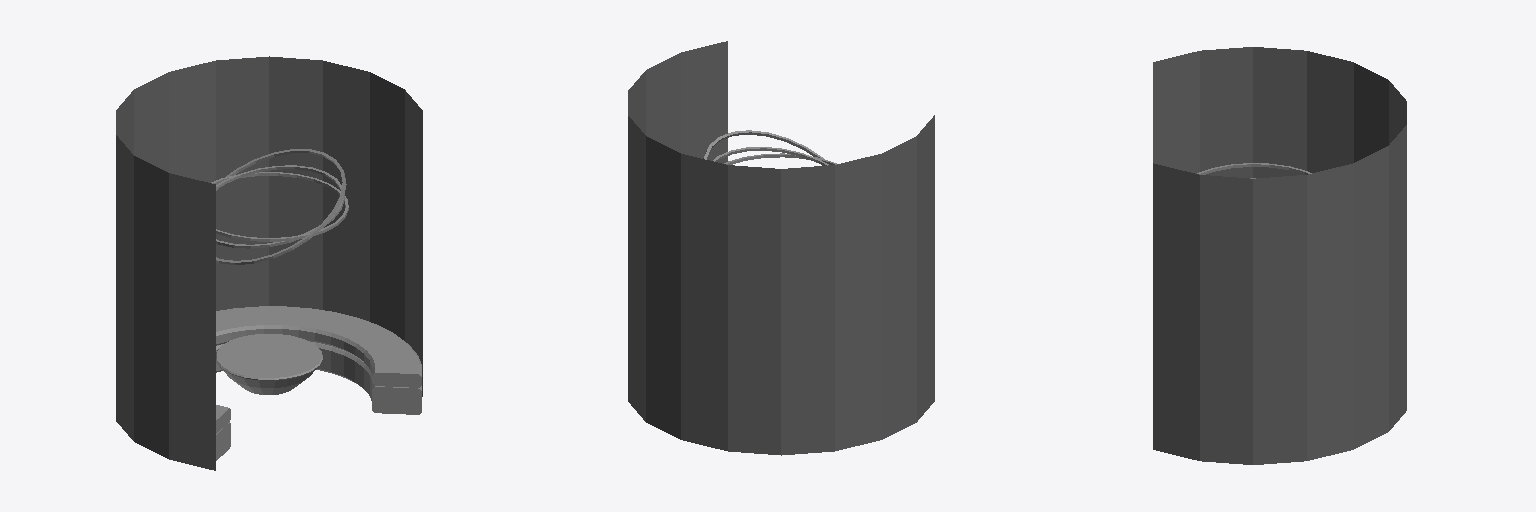
Rendered from Booth.obj.
3 renders of one model, left to right at view 1: azimuth 30°, elevation 25°; view 2: azimuth 150°, elevation 25°; view 3: azimuth 270°, elevation 25°, orthographic.
Visible parts, largest first — view 1: Cylinder001, Tube_4_Instance_003, Tube_Instance_005, Tube_Instance_003, Tube_Instance_004; view 2: Cylinder001, Tube_Instance_005; view 3: Cylinder001.
Part boxes in pixels (x1,y1,x2,y2): Cylinder001: (116, 56, 422, 470); Tube_4_Instance_003: (216, 306, 421, 460); Tube_Instance_005: (216, 149, 346, 264); Tube_Instance_003: (211, 172, 348, 241); Tube_Instance_004: (216, 165, 344, 248); Cylinder001: (628, 41, 934, 455); Tube_Instance_005: (703, 130, 823, 159); Cylinder001: (1153, 47, 1406, 464).
Size of the model in its own units: 49.44 by 50.03 by 40.23.